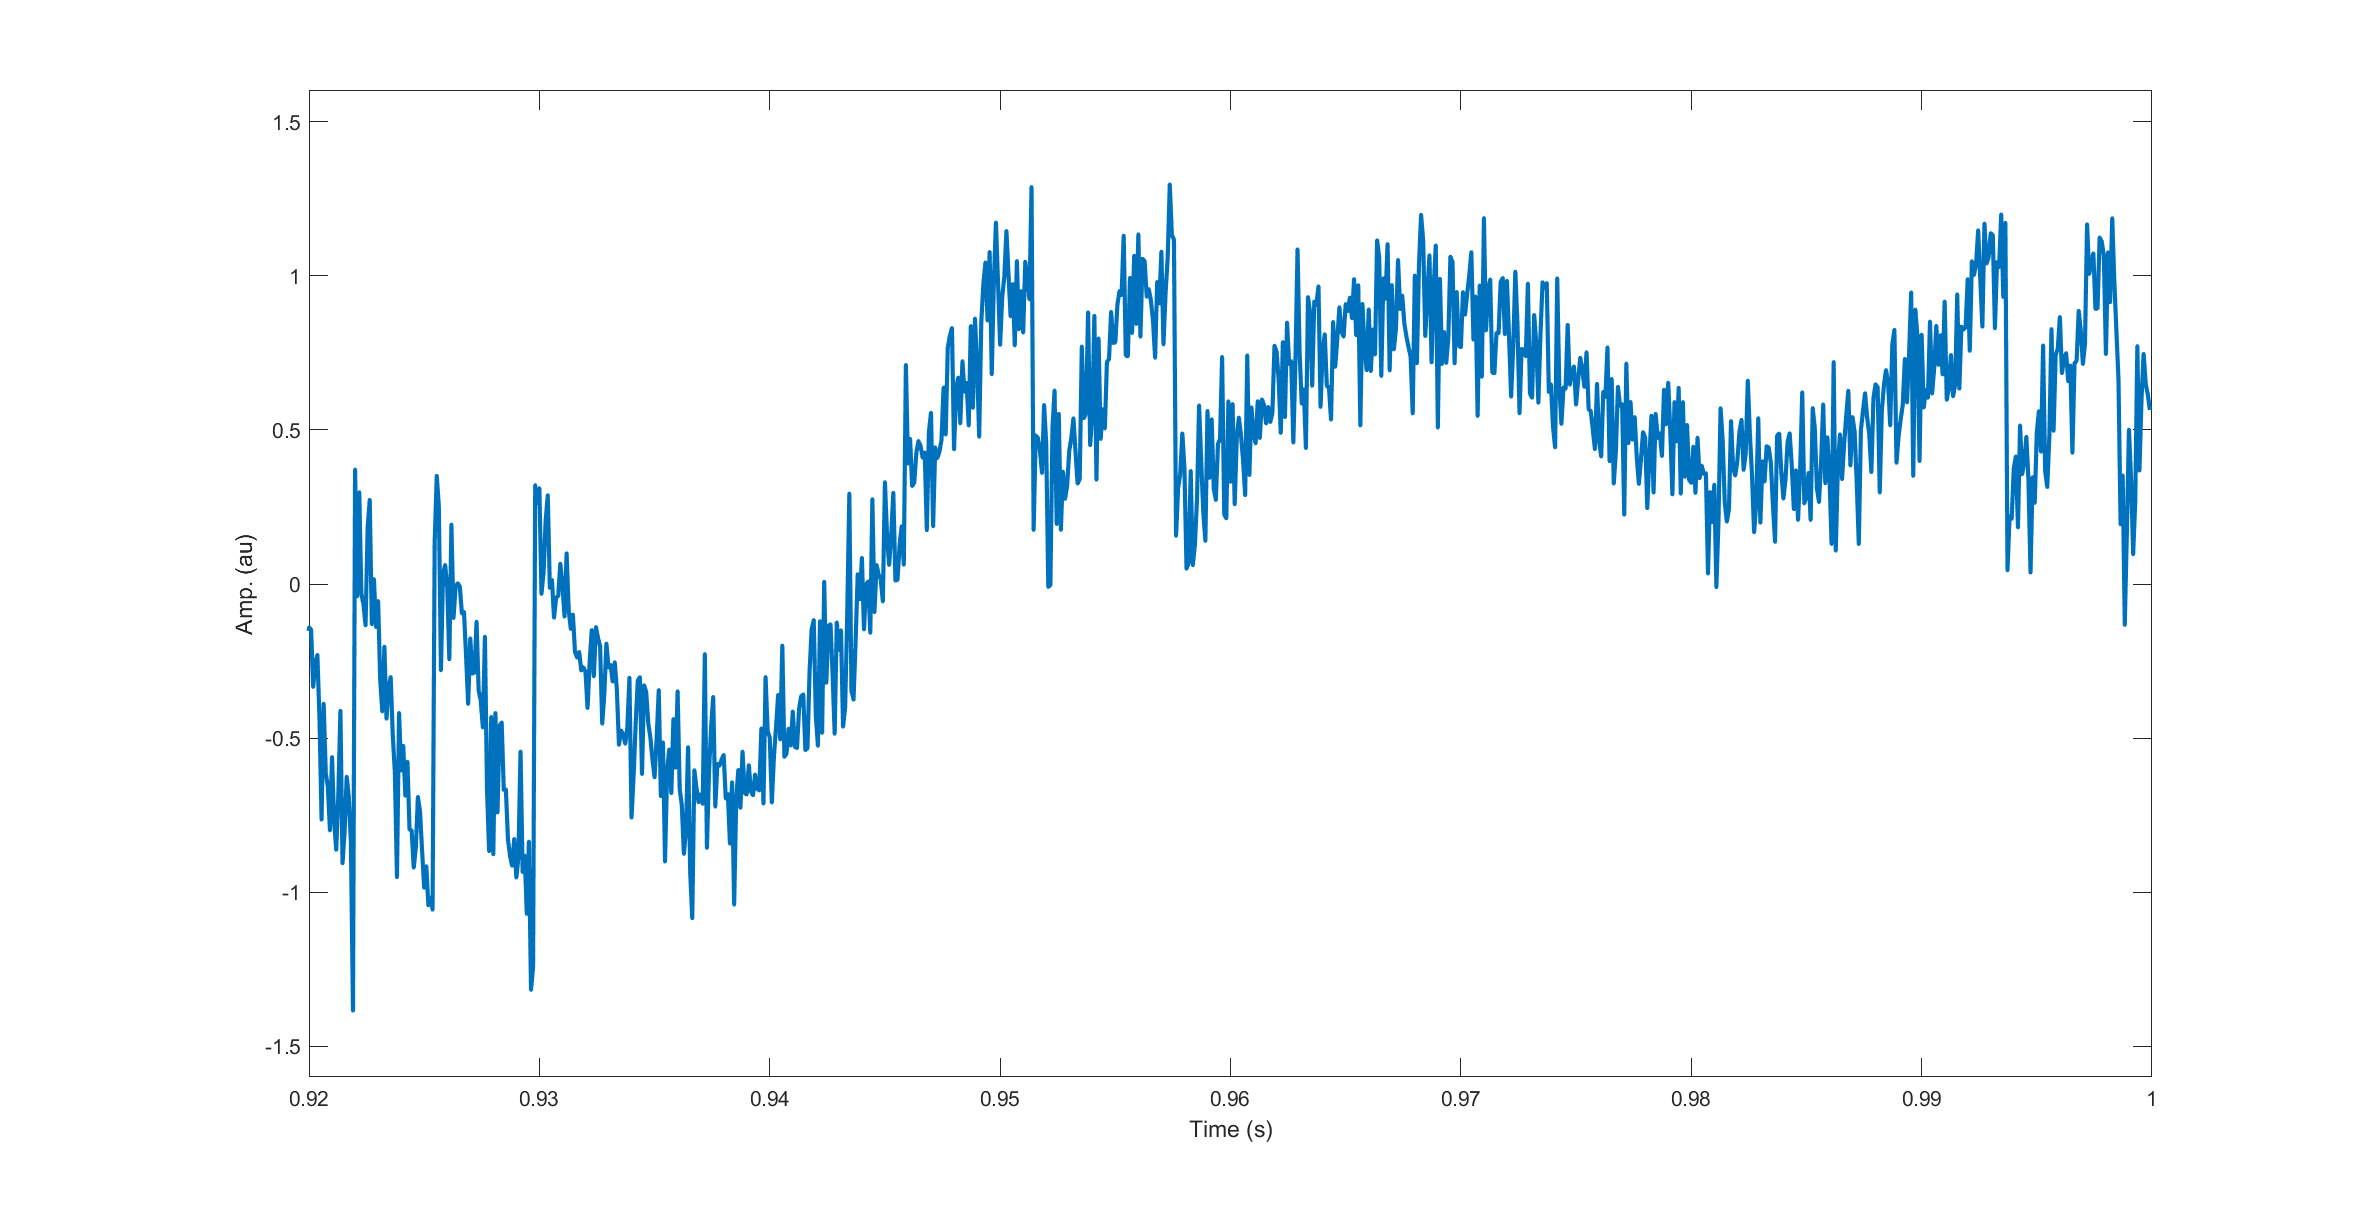negative_fringe: (522, 474, 640, 994), (421, 474, 512, 924), (346, 444, 414, 1017)
positive_fringe: (1869, 198, 2018, 576), (1054, 168, 1188, 574), (907, 161, 1049, 539), (2023, 208, 2136, 644)
